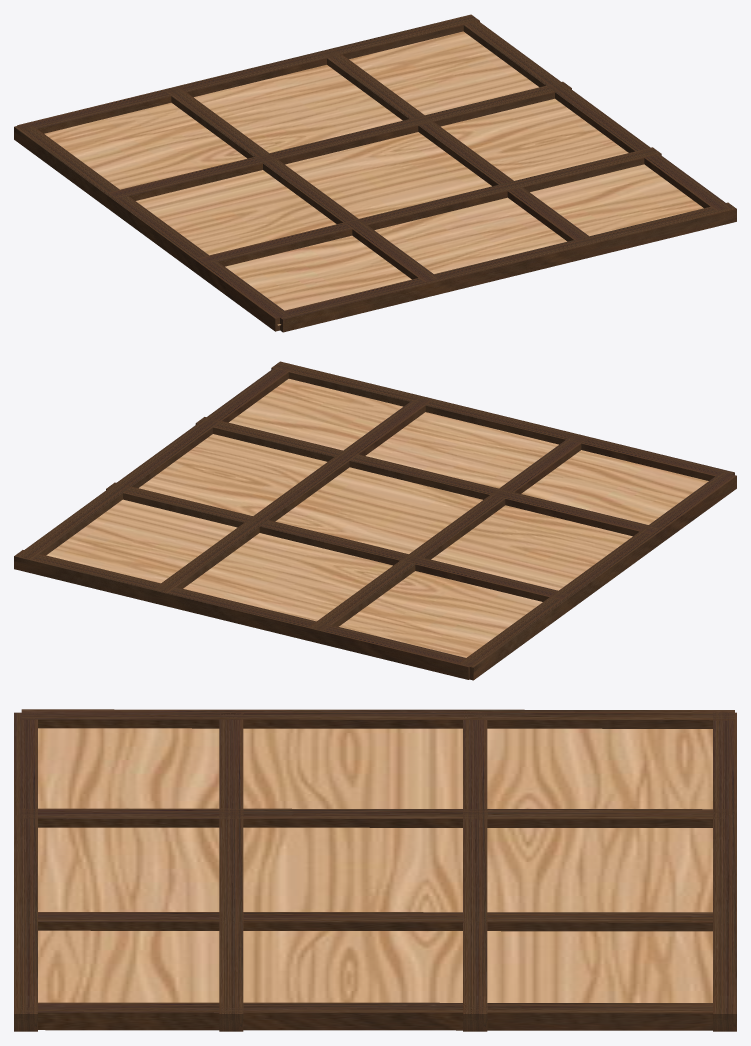
Rendered from Wooden_Board_for_TTT.fbx.
3 views of the same model, one above another, from view 1: azimuth 30°, elevation 25°; view 2: azimuth 150°, elevation 25°; view 3: azimuth 270°, elevation 25° (orthographic). The views are drawn at different scales.
Parts seen in each view (by area): view 1: Plane, Cube.007, Cube.001, Cube, Cube.005, Cube.006, Cube.004, Cube.002, Cube.003; view 2: Plane, Cube, Cube.001, Cube.007, Cube.006, Cube.005, Cube.003, Cube.002, Cube.004; view 3: Plane, Cube.002, Cube.001, Cube.004, Cube.003, Cube.006, Cube.005, Cube, Cube.007.
Boxes of the visible parts, x1,y1,x2,y2 form: Plane: [44, 31, 703, 325]; Cube.007: [279, 202, 736, 332]; Cube.001: [14, 123, 289, 331]; Cube: [17, 14, 479, 133]; Cube.005: [109, 81, 571, 200]; Cube.006: [199, 147, 661, 266]; Cube.004: [164, 87, 439, 282]; Cube.002: [456, 16, 731, 210]; Cube.003: [320, 49, 589, 243]; Plane: [46, 379, 708, 657]; Cube: [14, 550, 477, 679]; Cube.001: [458, 472, 736, 680]; Cube.007: [271, 361, 734, 480]; Cube.006: [195, 417, 658, 536]; Cube.005: [106, 482, 569, 601]; Cube.003: [153, 397, 431, 592]; Cube.002: [16, 364, 293, 559]; Cube.004: [309, 435, 586, 630]; Plane: [38, 728, 712, 1002]; Cube.002: [22, 1002, 712, 1030]; Cube.001: [21, 709, 734, 728]; Cube.004: [21, 808, 734, 827]; Cube.003: [26, 912, 712, 931]; Cube.006: [219, 712, 243, 1031]; Cube.005: [463, 713, 487, 1031]; Cube: [713, 712, 736, 1031]; Cube.007: [14, 712, 37, 1031].
Size of the model in its own units: 598 by 16 by 600.
